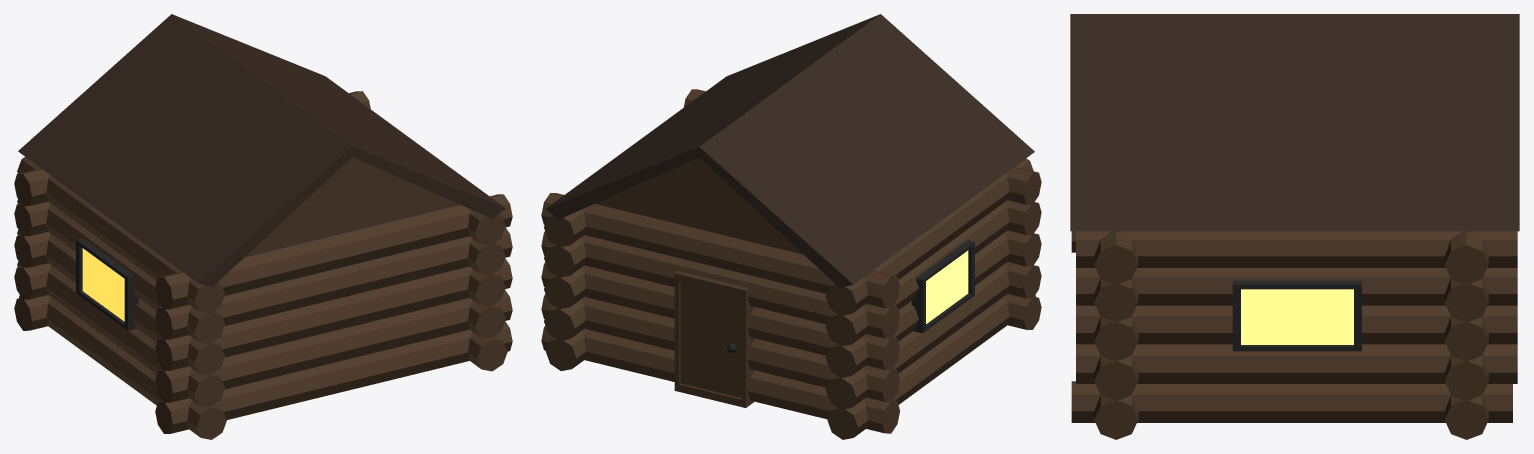
The model's file is LogHouse.fbx.
3 views of the same model, side by side, from view 1: azimuth 30°, elevation 25°; view 2: azimuth 150°, elevation 25°; view 3: azimuth 270°, elevation 25° (orthographic). The views are drawn at different scales.
Parts seen in each view (by area): view 1: Cube.001, Cylinder.004, Cylinder.001, Cylinder.002, Cylinder, Cylinder.003, Cube, Cylinder.010, Cylinder.014, Cylinder.011, Cube.004, Cylinder.013 (+11 smaller); view 2: Cube.001, Cylinder.019, Cube.002, Cube, Cylinder.018, Cylinder.016, Cylinder.015, Cylinder.017, Cylinder.014, Cylinder.010, Cylinder.011, Cube.004 (+12 smaller); view 3: Cube.001, Cylinder.005, Cylinder.009, Cylinder.006, Cylinder.008, Cylinder.007, Cube.003, Cylinder.004, Cylinder.019, Cylinder.016, Cylinder.001, Cylinder.015 (+5 smaller).
Part boxes in pixels (bbox=[...]): Cube.001: bbox=[18, 14, 505, 286]; Cylinder.004: bbox=[155, 194, 512, 309]; Cylinder.001: bbox=[155, 290, 512, 402]; Cylinder.002: bbox=[155, 258, 512, 370]; Cylinder: bbox=[155, 321, 512, 433]; Cylinder.003: bbox=[155, 227, 512, 339]; Cube: bbox=[244, 157, 459, 257]; Cylinder.010: bbox=[19, 295, 226, 439]; Cylinder.014: bbox=[17, 157, 224, 313]; Cylinder.011: bbox=[17, 261, 225, 406]; Cube.004: bbox=[76, 238, 138, 330]; Cylinder.013: bbox=[17, 199, 225, 343]; Cube.001: bbox=[545, 14, 1034, 287]; Cylinder.019: bbox=[541, 193, 899, 308]; Cube.002: bbox=[674, 271, 754, 407]; Cube: bbox=[595, 157, 803, 254]; Cylinder.018: bbox=[541, 231, 899, 338]; Cylinder.016: bbox=[541, 294, 899, 401]; Cylinder.015: bbox=[541, 326, 899, 433]; Cylinder.017: bbox=[541, 262, 899, 370]; Cylinder.014: bbox=[825, 158, 1033, 315]; Cylinder.010: bbox=[827, 295, 1035, 439]; Cylinder.011: bbox=[825, 264, 1009, 409]; Cube.004: bbox=[911, 240, 974, 333]; Cube.001: bbox=[1070, 14, 1519, 231]; Cylinder.005: bbox=[1071, 381, 1512, 422]; Cylinder.009: bbox=[1076, 231, 1517, 267]; Cylinder.006: bbox=[1076, 344, 1517, 383]; Cylinder.008: bbox=[1076, 268, 1517, 305]; Cylinder.007: bbox=[1076, 305, 1517, 344]; Cube.003: bbox=[1232, 280, 1361, 351]; Cylinder.004: bbox=[1094, 231, 1138, 284]; Cylinder.019: bbox=[1444, 231, 1488, 284]; Cylinder.016: bbox=[1444, 356, 1488, 400]; Cylinder.001: bbox=[1094, 356, 1138, 400]; Cylinder.015: bbox=[1444, 395, 1488, 439].
Bounding box in the file's own units: 786 × 574 × 724.
